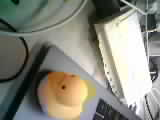duck: (29, 65, 91, 113)
